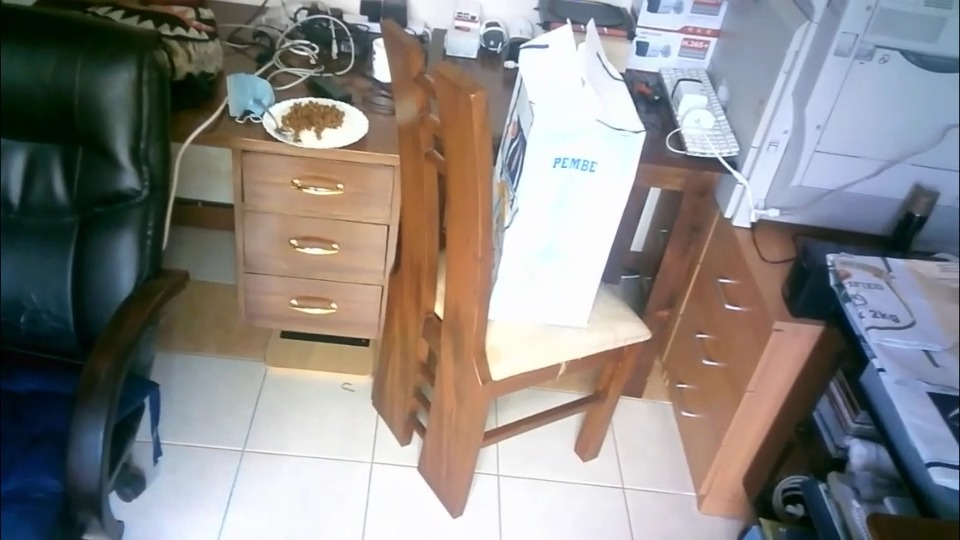wheat_flour_blue_label: (492, 26, 646, 319)
